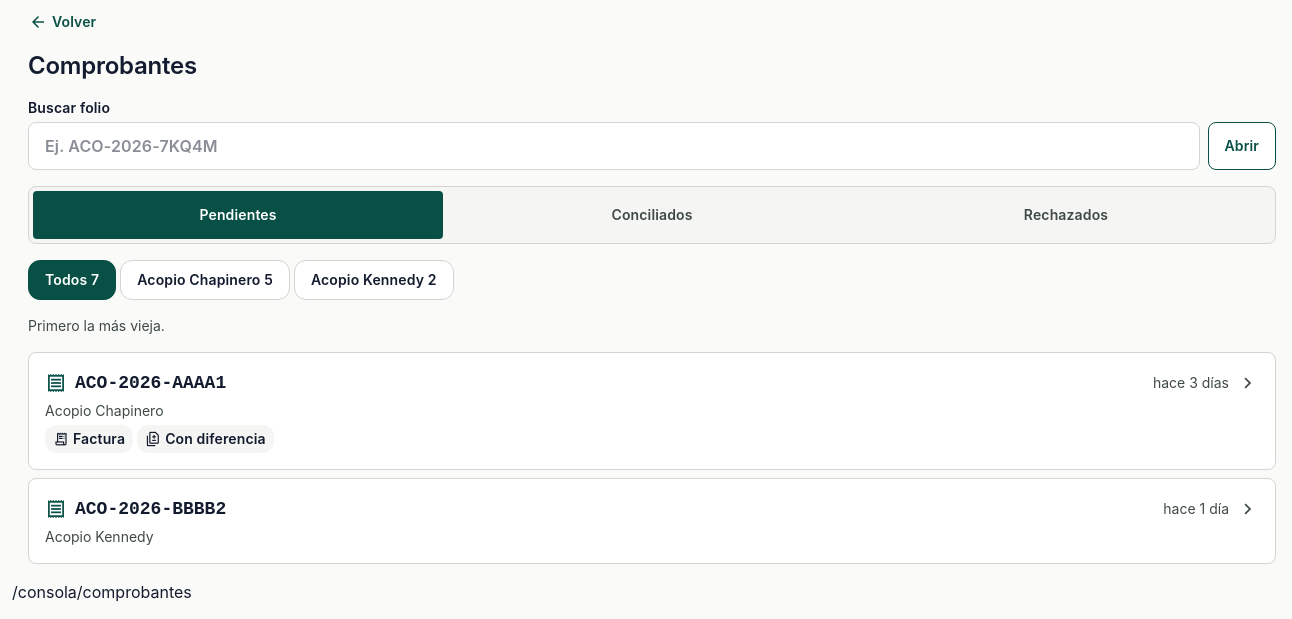
Test: los chips cuentan los pendientes por acopio y filtran; el filtro queda en la URL
Click the button "Acopio Kennedy 2": (374, 280) [294, 260, 454, 300]
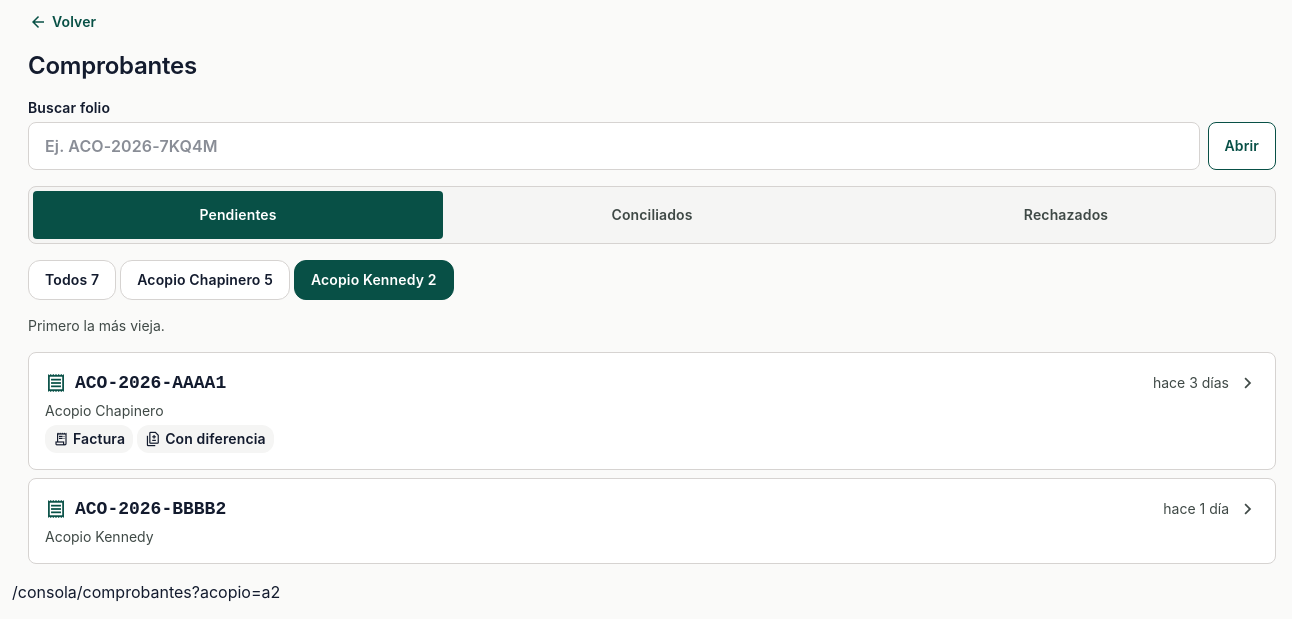
Now the text named "Ubicación" reads "/consola/comprobantes?acopio=a2", box [12, 582, 280, 602]
